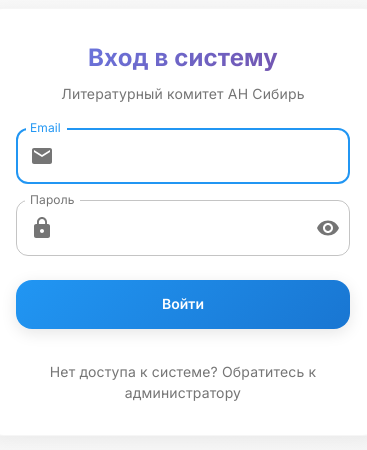
Test: LoginForm › shows error message on login failure
Type "test@example.com" into the field labelled "Email" at x=206, y=156, box [62,128,350,184]
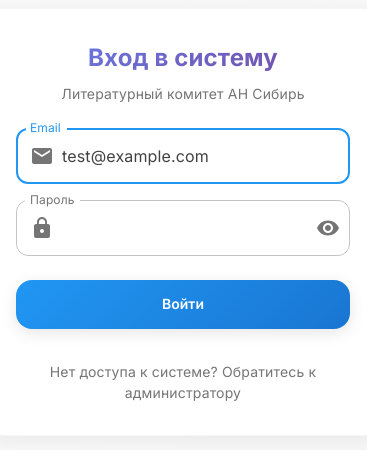
Type "wrongpassword" into the password field labelled "Пароль" at x=181, y=228, box [62,200,300,256]
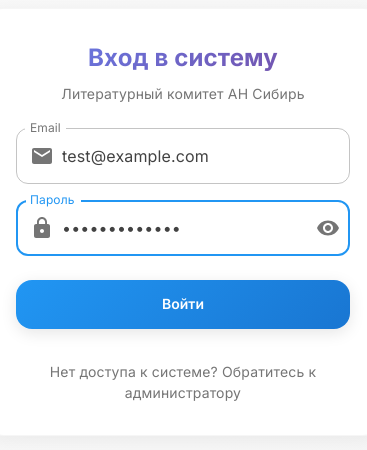
Click the button "Войти" at x=183, y=304, box [16,280,350,328]
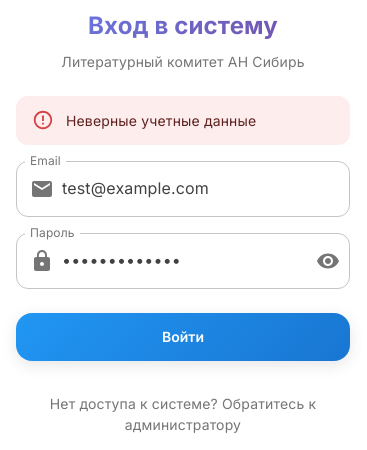
Result: the text "Неверные учетные данные" is shown at [66,112,256,128]
